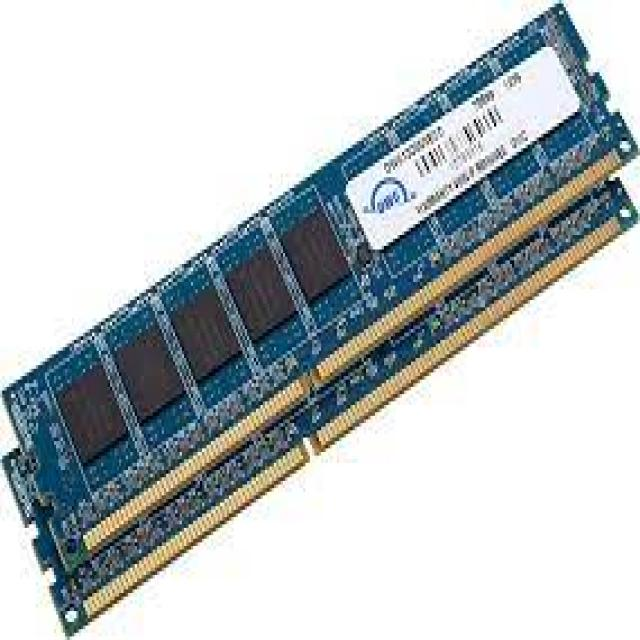Ram: (63, 70, 588, 590)
